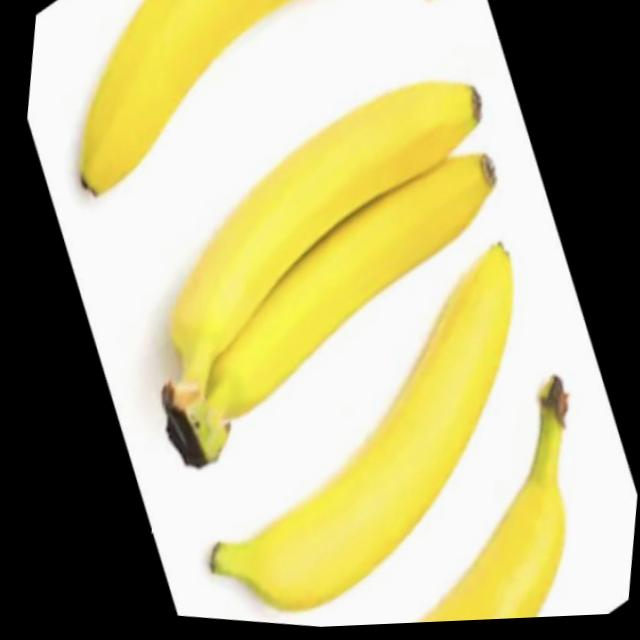Banana: (139, 49, 516, 505), (189, 210, 529, 634), (63, 0, 337, 225), (384, 359, 587, 627)
